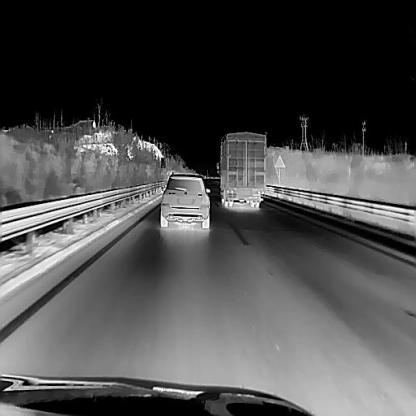car: (159, 170, 210, 227)
truck: (215, 131, 266, 207)
